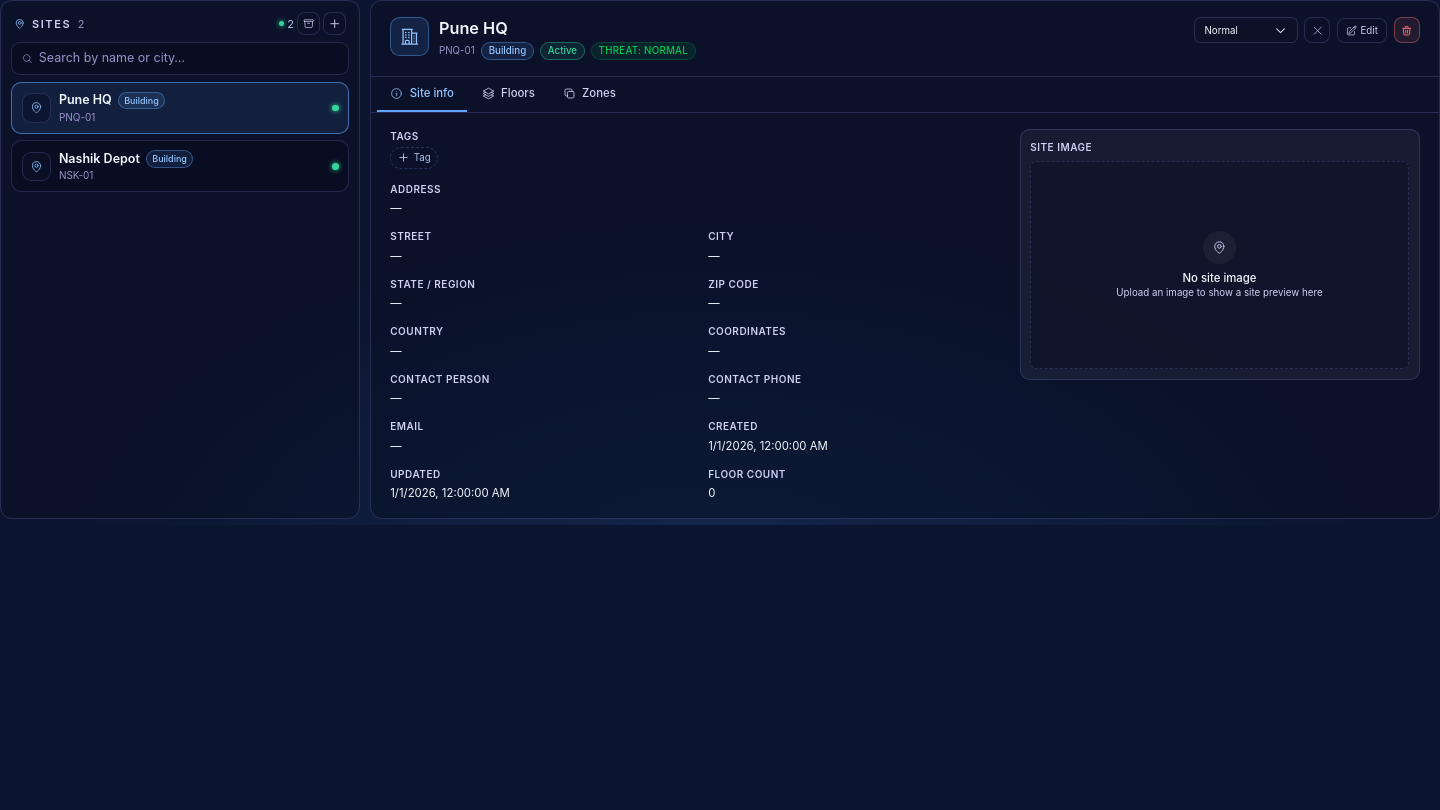
Test: starting a new site › opens the form from the panel plus — the only way in now the footer button is gone
The width and height of the screenshot is (1440, 810).
Click the button named "new site" at (335, 24), box [323,12,346,35]
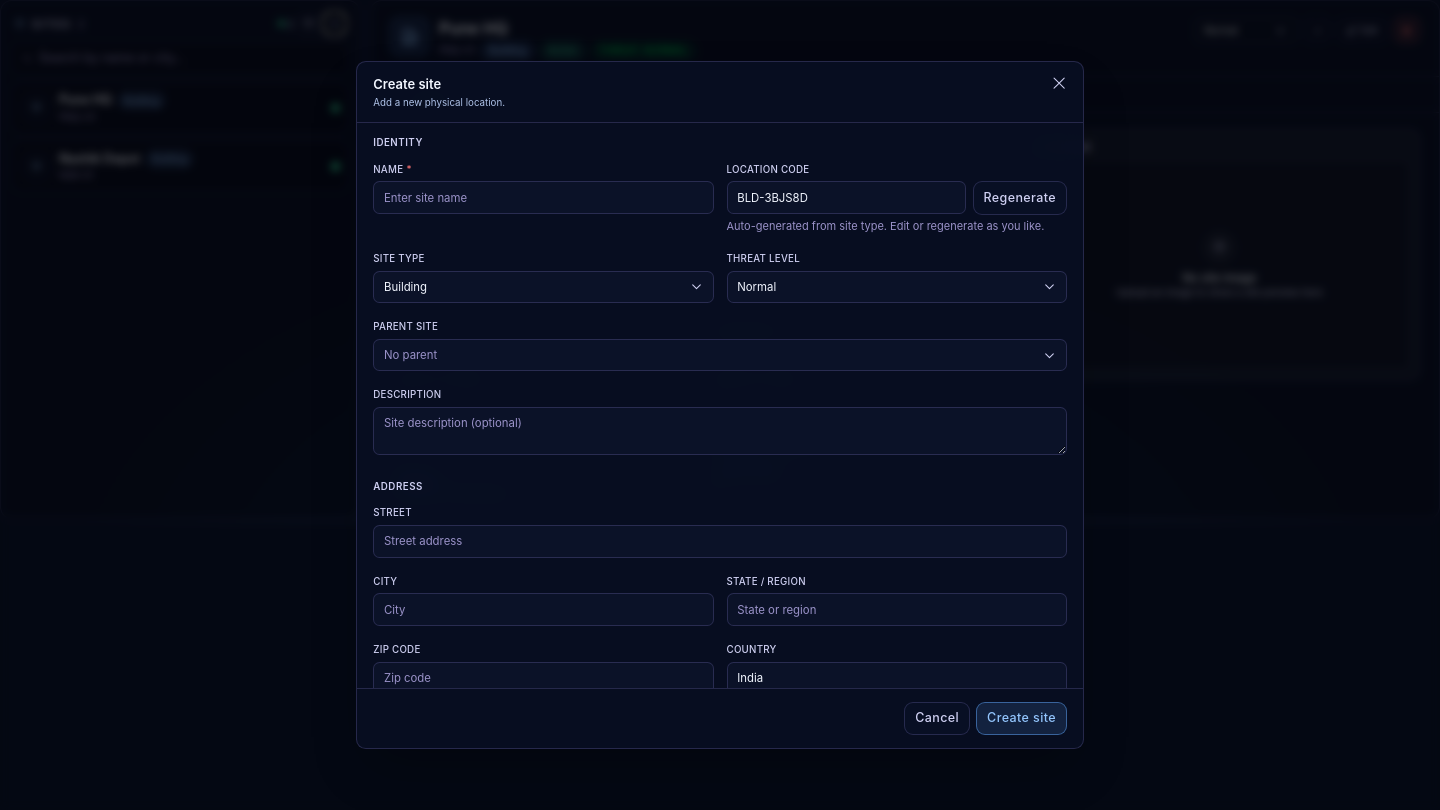
Result: the button "Create site" is shown at [976,702,1067,735]
